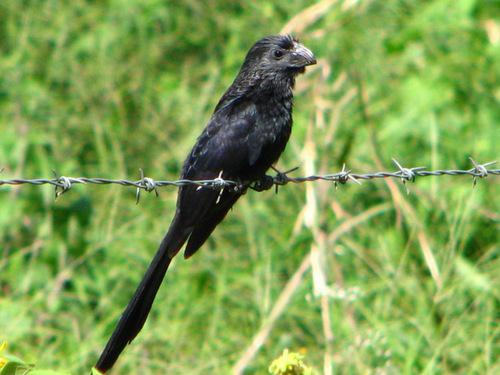004.Groove_billed_Ani: (95, 36, 317, 374)
